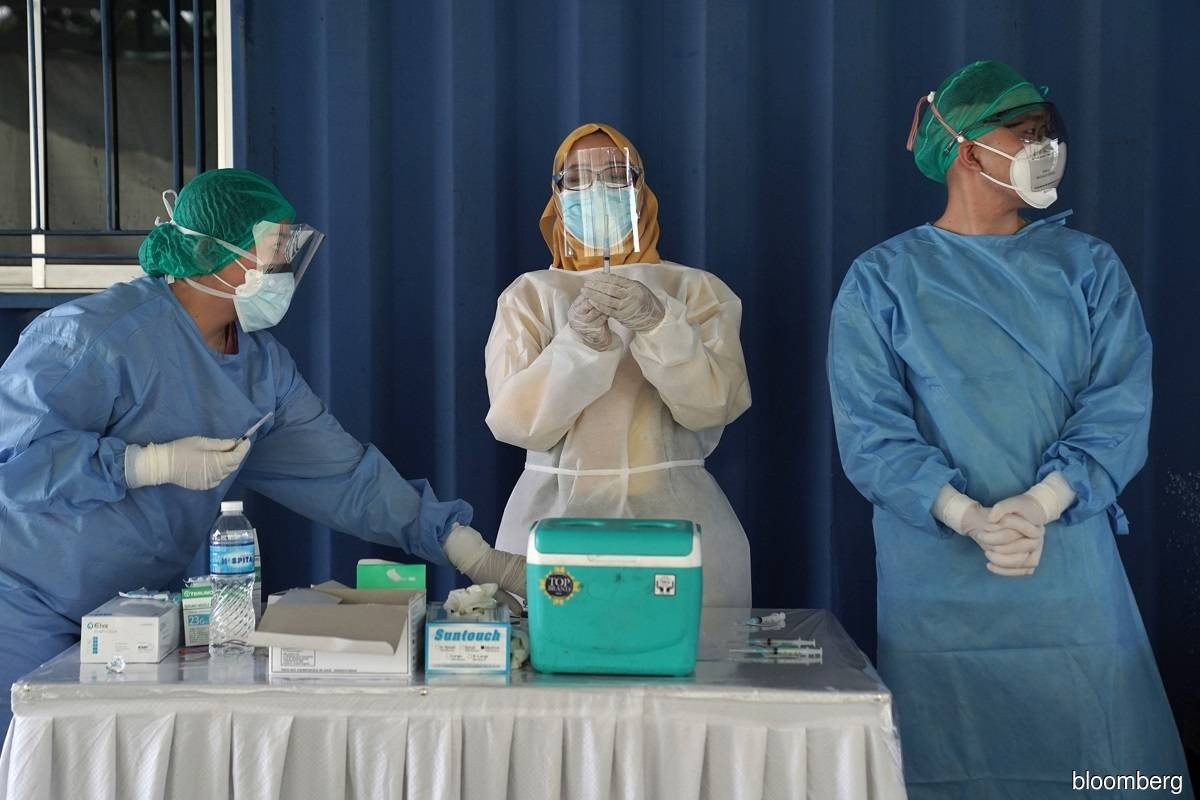Coverall: (820, 215, 1168, 800), (1, 277, 320, 679), (478, 264, 760, 638)
Face_Shield: (225, 214, 333, 323), (550, 144, 651, 259), (1008, 101, 1072, 206)
Gloves: (942, 485, 1071, 577), (564, 271, 668, 358), (121, 427, 255, 494), (447, 520, 532, 605)
with_mask: (229, 237, 307, 333), (563, 168, 637, 247), (1003, 120, 1065, 212)
